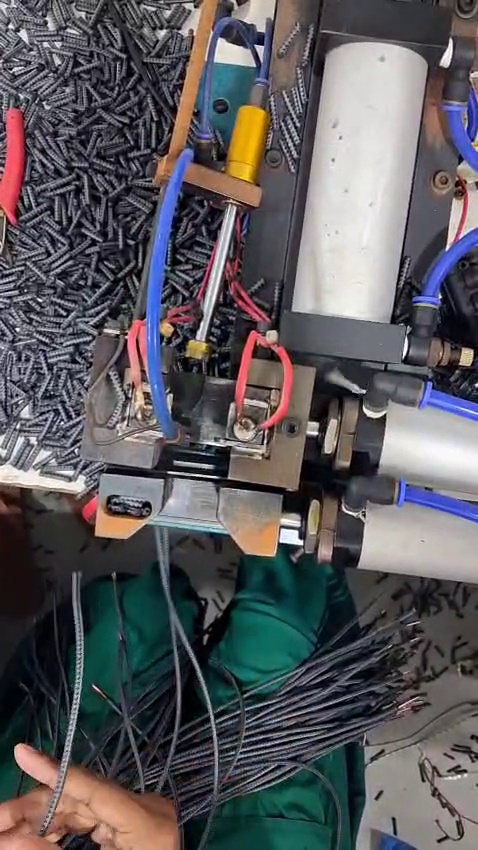intact_wire: (53, 556, 122, 648)
machine: (70, 314, 322, 509)
